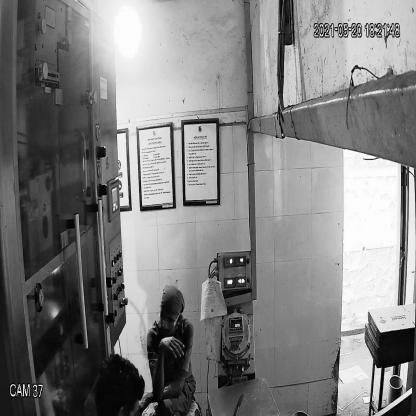goggles: (158, 309, 180, 329)
